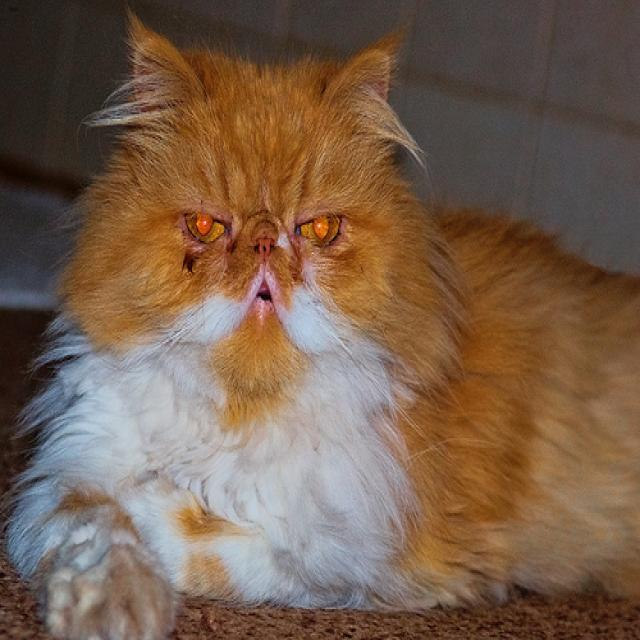Persian: (133, 13, 389, 389)
